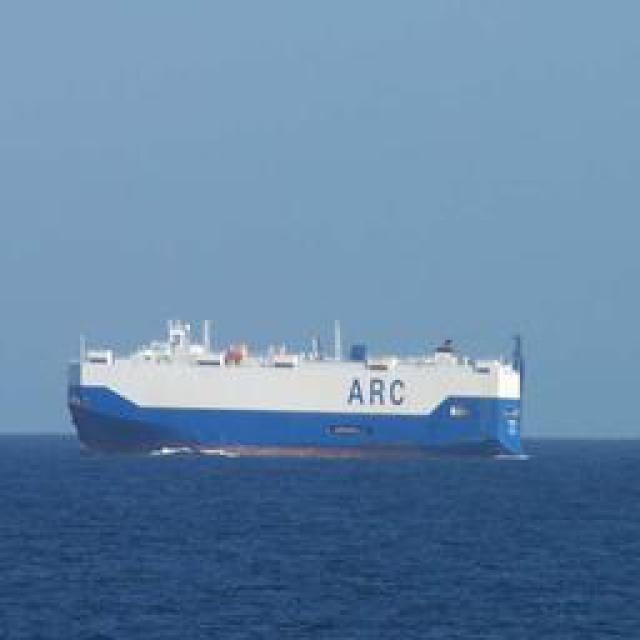Ship: (66, 316, 531, 461)
